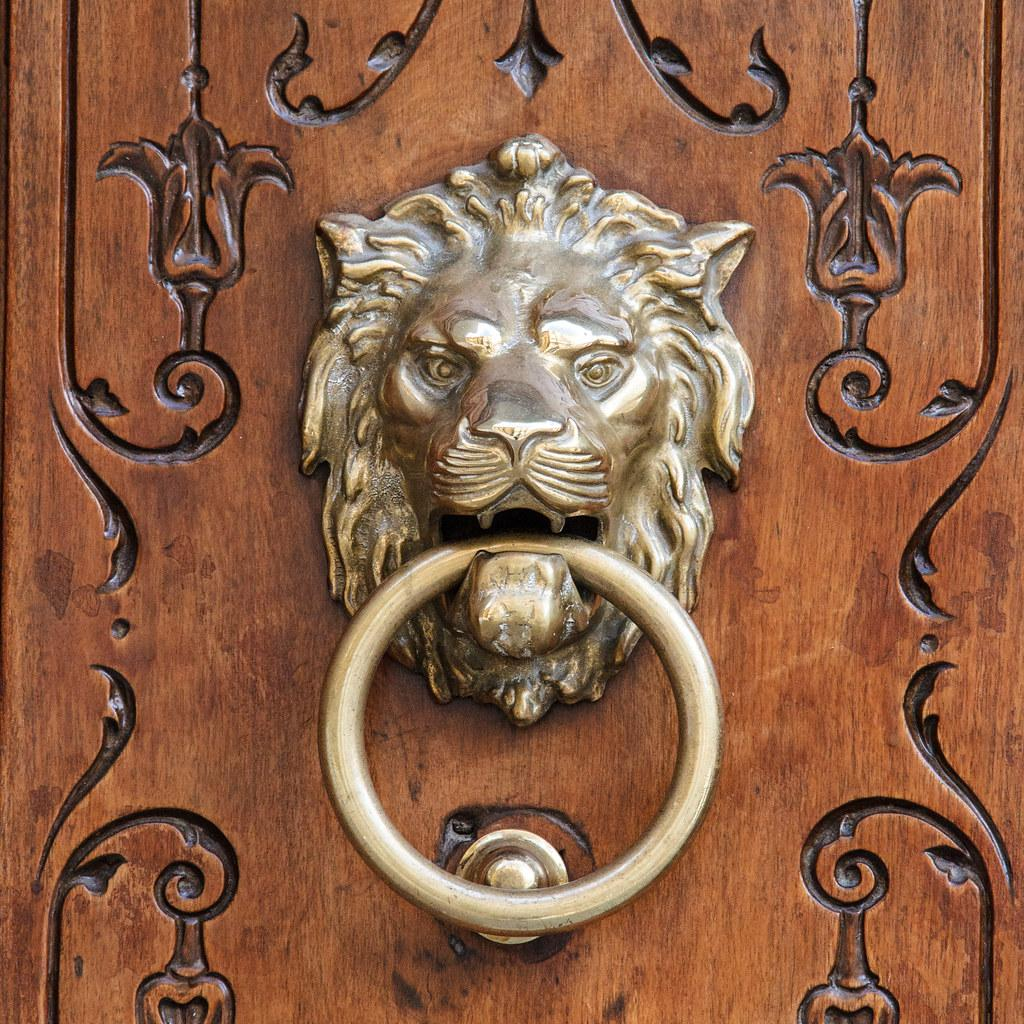door: (3, 2, 1021, 1022)
